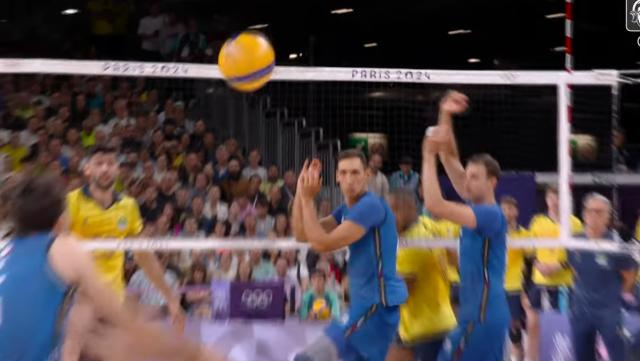bola: (219, 27, 277, 96)
